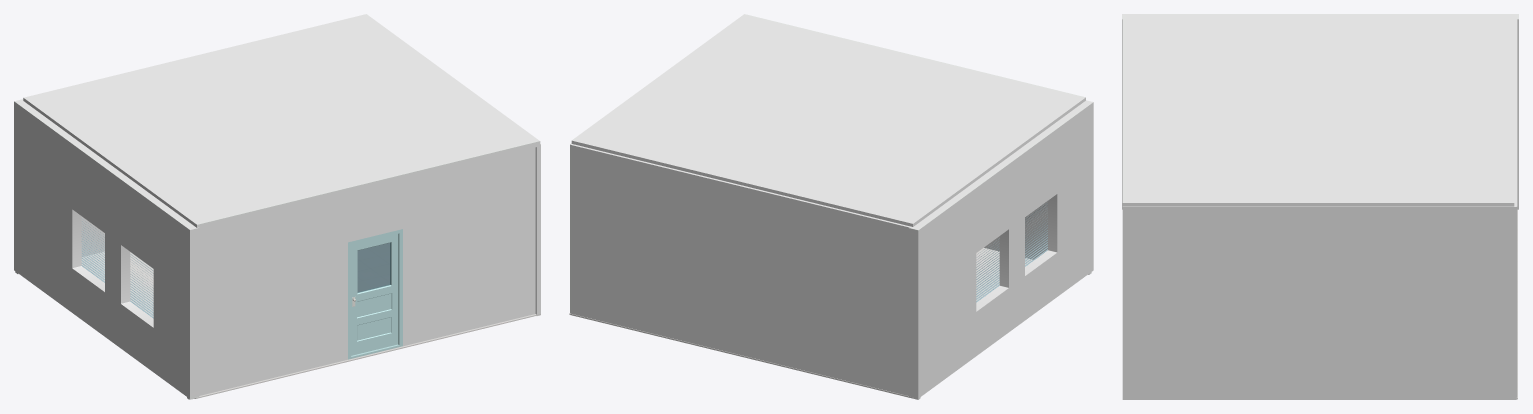
3 renders of one model, left to right at view 1: azimuth 30°, elevation 25°; view 2: azimuth 150°, elevation 25°; view 3: azimuth 270°, elevation 25°, orthographic. The views are drawn at different scales.
Parts seen in each view (by area): view 1: phongbenh_test:polySurface144, phongbenh_test:polySurface345, phongbenh_test:polySurface344, phongbenh_test:canhcua, phongbenh_test:polySurface143, phongbenh_test:pCube1, phongbenh_test:khungcua, phongbenh_test:polySurface346, phongbenh_test:polySurface347, phongbenh_test:remcua1, phongbenh_test:remcua2; view 2: phongbenh_test:polySurface144, phongbenh_test:polySurface347, phongbenh_test:polySurface344, phongbenh_test:polySurface143, phongbenh_test:polySurface345, phongbenh_test:remcua1, phongbenh_test:remcua2; view 3: phongbenh_test:polySurface346, phongbenh_test:polySurface144, phongbenh_test:polySurface347, phongbenh_test:polySurface344.
Boxes of the visible parts, x1=… form: phongbenh_test:polySurface144: x1=23, y1=14, x2=540, y2=229; phongbenh_test:polySurface345: x1=187, y1=147, x2=535, y2=399; phongbenh_test:polySurface344: x1=14, y1=99, x2=199, y2=398; phongbenh_test:canhcua: x1=351, y1=233, x2=398, y2=355; phongbenh_test:polySurface143: x1=81, y1=243, x2=540, y2=398; phongbenh_test:pCube1: x1=357, y1=243, x2=390, y2=292; phongbenh_test:khungcua: x1=348, y1=229, x2=402, y2=359; phongbenh_test:polySurface346: x1=535, y1=144, x2=540, y2=315; phongbenh_test:polySurface347: x1=15, y1=100, x2=104, y2=274; phongbenh_test:remcua1: x1=81, y1=219, x2=104, y2=282; phongbenh_test:remcua2: x1=130, y1=253, x2=153, y2=318; phongbenh_test:polySurface144: x1=571, y1=14, x2=1085, y2=226; phongbenh_test:polySurface347: x1=570, y1=144, x2=920, y2=399; phongbenh_test:polySurface344: x1=909, y1=100, x2=1093, y2=398; phongbenh_test:polySurface143: x1=569, y1=248, x2=1032, y2=398; phongbenh_test:polySurface345: x1=984, y1=101, x2=1091, y2=274; phongbenh_test:remcua1: x1=976, y1=238, x2=999, y2=302; phongbenh_test:remcua2: x1=1025, y1=202, x2=1047, y2=266; phongbenh_test:polySurface346: x1=1122, y1=205, x2=1516, y2=399; phongbenh_test:polySurface144: x1=1122, y1=14, x2=1514, y2=206; phongbenh_test:polySurface347: x1=1514, y1=14, x2=1517, y2=397; phongbenh_test:polySurface344: x1=1122, y1=14, x2=1518, y2=209.
Size of the model in its own units: 241 by 114 by 209.
